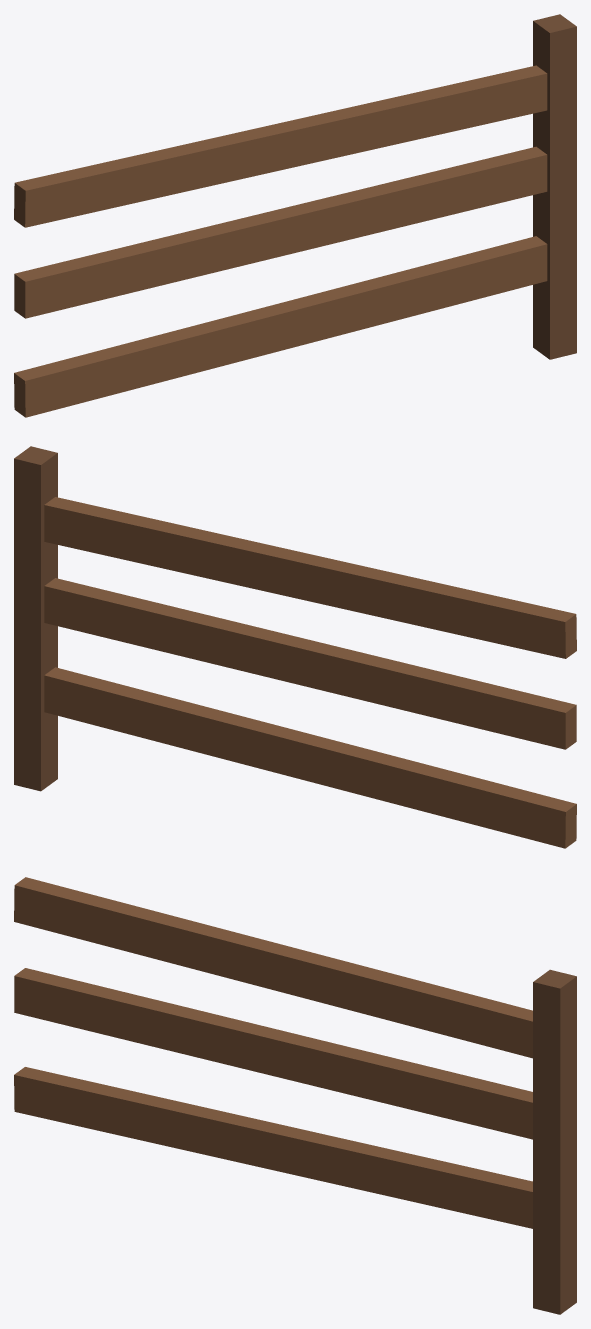
Rendered from Fence_01.glb.
The picture shows the model from 3 angles, top to bottom: view 1: azimuth 30°, elevation 25°; view 2: azimuth 150°, elevation 25°; view 3: azimuth 330°, elevation 25°; orthographic projection.
Visible parts, largest first — view 1: Fence_01; view 2: Fence_01; view 3: Fence_01.
Boxes of the visible parts, box(x1,y1,x2,y2) form: Fence_01: box(14, 14, 576, 417); Fence_01: box(14, 446, 576, 848); Fence_01: box(14, 877, 576, 1314).
Size of the model in its own units: 2.58 by 1.47 by 0.137.
Materials: 1 (1 with a texture image).
